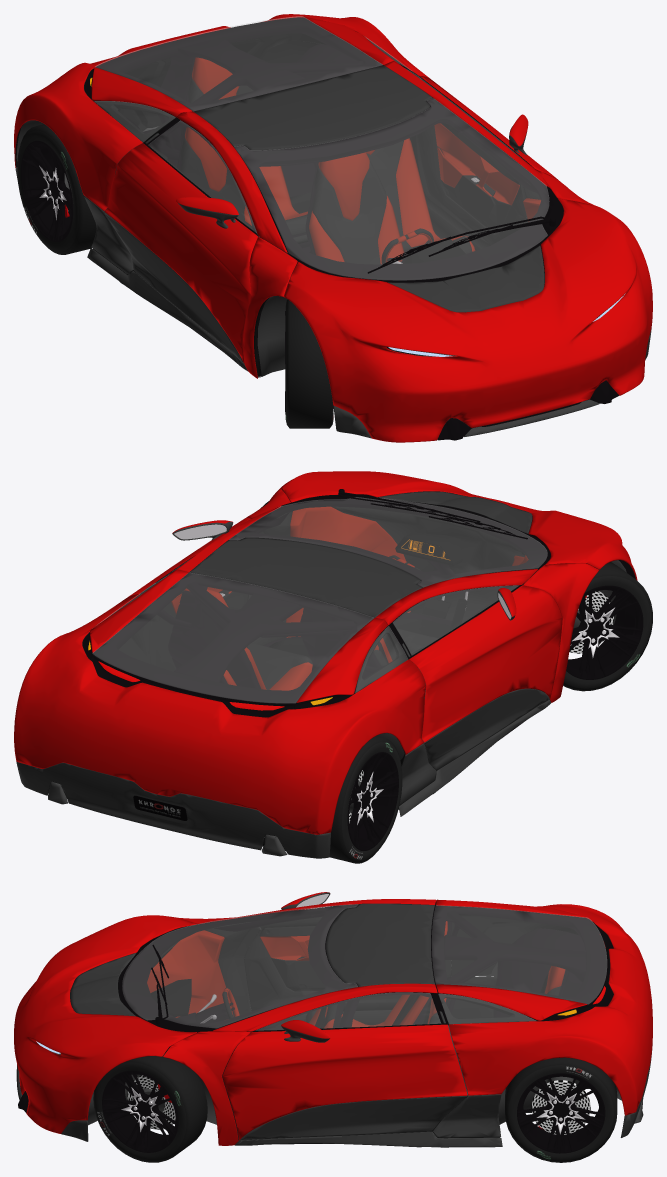
Rendered from car_concept.glb.
The picture shows the model from 3 angles, top to bottom: view 1: azimuth 30°, elevation 25°; view 2: azimuth 150°, elevation 25°; view 3: azimuth 270°, elevation 25°; orthographic projection. The views are drawn at different scales.
Visible parts, largest first — view 1: BodyHood, BodyWindshield, BodyRearwindow, BodyDoorRColor1, BodyRearPanelsColor1, BodyRoofPanel, BodyWindshieldGasket, InteriorSeatsColor1, InteriorSeatsColor2, BodyPillars, InteriorPillar, InteriorRearHatch (+21 smaller); view 2: BodyRearPanelsColor1, BodyRearwindow, BodyWindshield, BodyDoorRColor1, BodyPanelsColor2, BodyRoofPanel, BodyHood, InteriorRearHatch, BodyPillars, InteriorPillar, InteriorDashMid, BodyWindshieldGasket (+22 smaller); view 3: BodyRearPanelsColor1, BodyWindshield, BodyDoorLColor1, BodyHood, BodyRearwindow, BodyRoofPanel, BodyPillars, BodyWindshieldGasket, BodyDoorLColor2, BodyPanelsColor2, WheelFrontL, InteriorRearHatch (+25 smaller).
Boxes of the visible parts, x1=… form: BodyHood: x1=283, y1=198, x2=652, y2=442; BodyWindshield: x1=234, y1=98, x2=549, y2=280; BodyRearwindow: x1=95, y1=16, x2=382, y2=110; BodyDoorRColor1: x1=104, y1=143, x2=257, y2=363; BodyRearPanelsColor1: x1=14, y1=14, x2=428, y2=210; BodyRoofPanel: x1=193, y1=65, x2=432, y2=150; BodyWindshieldGasket: x1=234, y1=99, x2=563, y2=282; InteriorSeatsColor1: x1=185, y1=57, x2=475, y2=264; InteriorSeatsColor2: x1=180, y1=78, x2=472, y2=264; BodyPillars: x1=176, y1=61, x2=599, y2=378; InteriorPillar: x1=158, y1=37, x2=434, y2=168; InteriorRearHatch: x1=93, y1=17, x2=383, y2=117; BodyRearPanelsColor1: x1=14, y1=569, x2=425, y2=834; BodyRearwindow: x1=92, y1=573, x2=373, y2=703; BodyWindshield: x1=229, y1=497, x2=547, y2=587; BodyDoorRColor1: x1=409, y1=585, x2=562, y2=742; BodyPanelsColor2: x1=16, y1=700, x2=550, y2=858; BodyRoofPanel: x1=189, y1=537, x2=422, y2=617; BodyHood: x1=279, y1=471, x2=637, y2=580; InteriorRearHatch: x1=93, y1=573, x2=386, y2=707; BodyPillars: x1=175, y1=489, x2=599, y2=702; InteriorPillar: x1=174, y1=574, x2=417, y2=682; InteriorDashMid: x1=331, y1=503, x2=528, y2=622; BodyWindshieldGasket: x1=230, y1=497, x2=550, y2=587; BodyRearPanelsColor1: x1=436, y1=899, x2=652, y2=1115; BodyWindshield: x1=122, y1=904, x2=357, y2=1028; BodyDoorLColor1: x1=222, y1=1024, x2=467, y2=1140; BodyHood: x1=14, y1=915, x2=196, y2=1133; BodyRearwindow: x1=432, y1=905, x2=606, y2=1003; BodyRoofPanel: x1=326, y1=903, x2=434, y2=986; BodyPillars: x1=163, y1=899, x2=437, y2=1145; BodyWindshieldGasket: x1=118, y1=905, x2=357, y2=1032; BodyDoorLColor2: x1=240, y1=1096, x2=467, y2=1140; BodyPanelsColor2: x1=16, y1=1045, x2=652, y2=1147; WheelFrontL: x1=93, y1=1054, x2=207, y2=1162; InteriorRearHatch: x1=431, y1=905, x2=606, y2=1020.
Size of the model in its own units: 2.54 by 1.15 by 4.36.
Materials: 23 (6 with a texture image).
